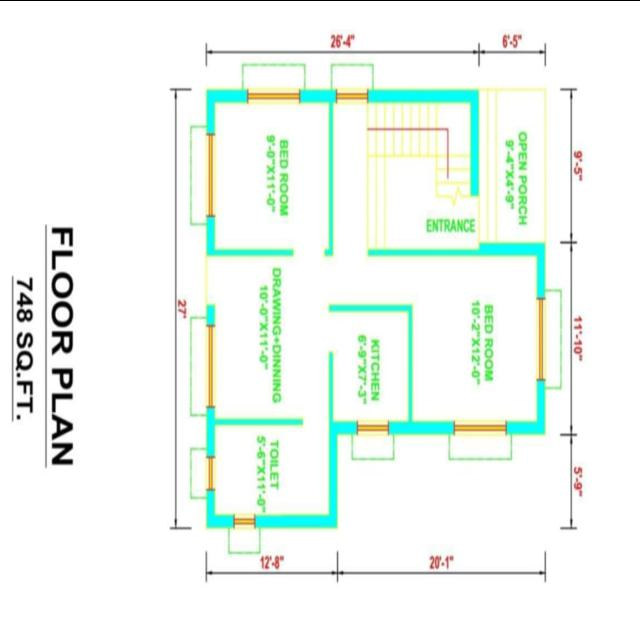column: (528, 412, 550, 446), (325, 410, 346, 440), (320, 505, 342, 533), (530, 235, 550, 265), (466, 83, 483, 110), (203, 507, 220, 534), (321, 82, 337, 110), (203, 83, 219, 111)
